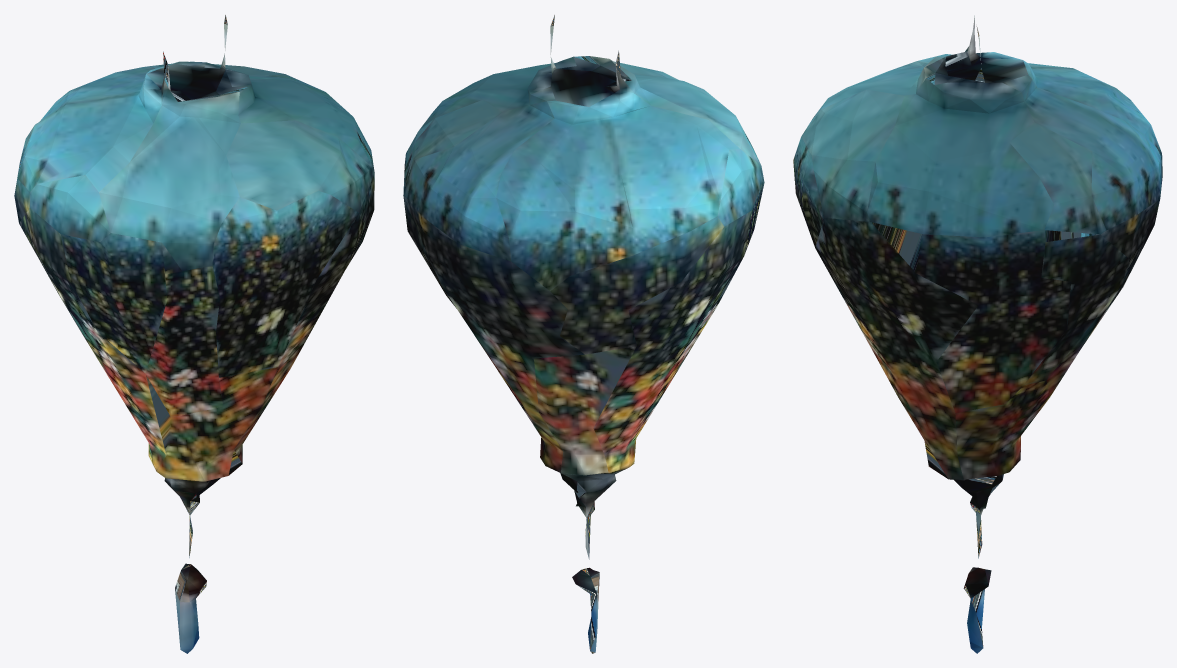
Rendered from den-long-hoi-an.glb.
3 renders of one model, left to right at view 1: azimuth 30°, elevation 25°; view 2: azimuth 150°, elevation 25°; view 3: azimuth 270°, elevation 25°, orthographic. The views are drawn at different scales.
Visible parts, largest first — view 1: mesh_main_0; view 2: mesh_main_0; view 3: mesh_main_0.
Boxes of the visible parts, x1,y1,x2,y2 form: mesh_main_0: [14, 15, 374, 653]; mesh_main_0: [403, 15, 764, 653]; mesh_main_0: [793, 15, 1162, 653].
Size of the model in its own units: 0.4851 by 0.9531 by 0.492.
Materials: 1 (1 with a texture image).
